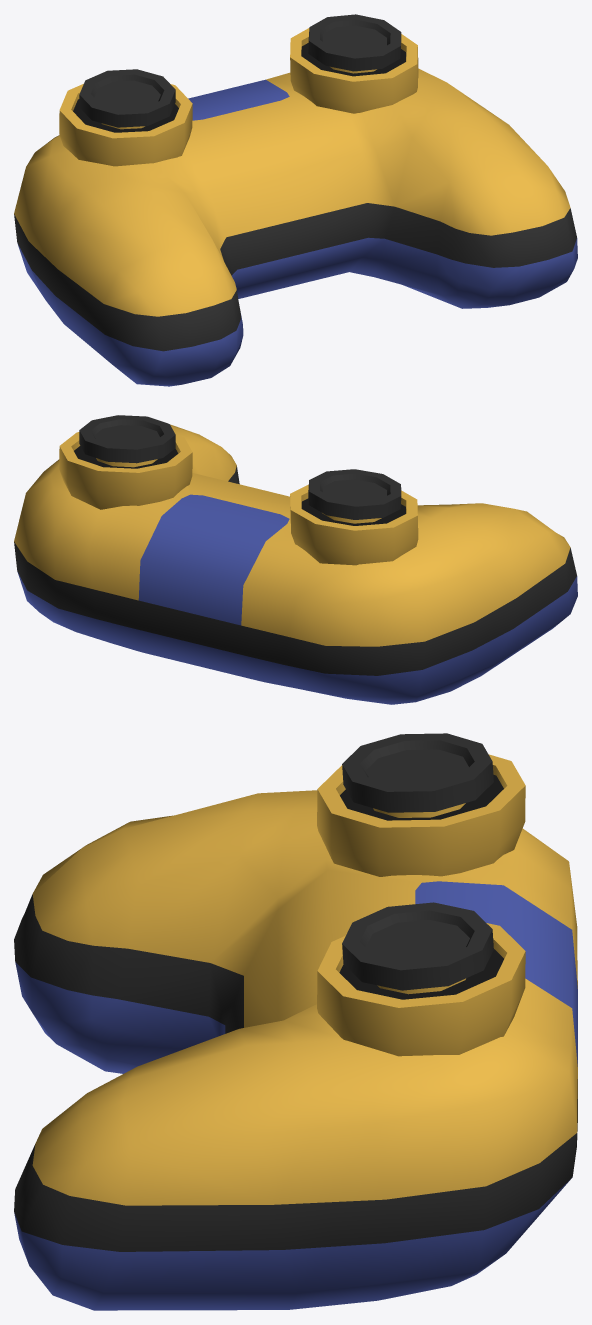
Rendered from Controller_01.fbx.
3 views of the same model, one above another, from view 1: azimuth 30°, elevation 25°; view 2: azimuth 150°, elevation 25°; view 3: azimuth 270°, elevation 25° (orthographic). The views are drawn at different scales.
Visible parts, largest first — view 1: Controller_01; view 2: Controller_01; view 3: Controller_01.
Boxes of the visible parts, <box> form: Controller_01: <box>14,14,577,386</box>; Controller_01: <box>14,415,577,704</box>; Controller_01: <box>14,733,577,1310</box>.
Bounding box in the file's own units: 0.1875 × 0.0818 × 0.1265.
